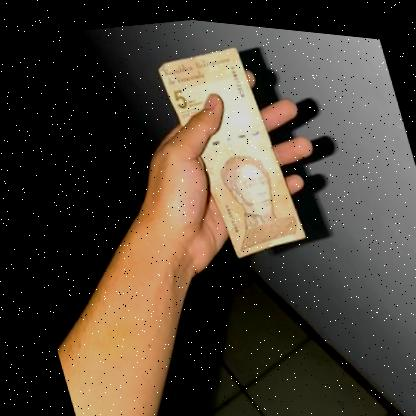five-front-vef: (148, 32, 307, 265)
